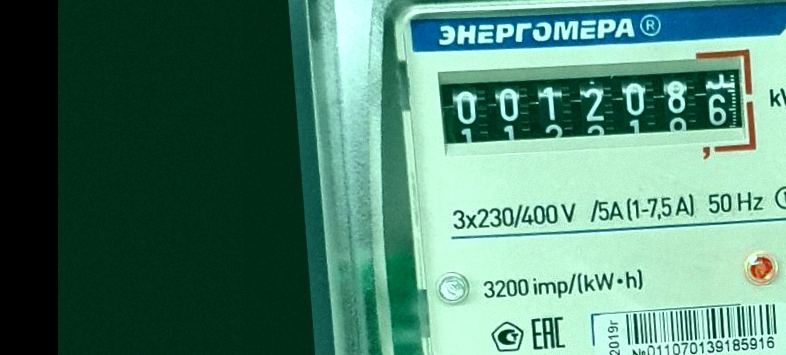0: (452, 85, 481, 126), (496, 84, 523, 122), (621, 78, 648, 116)
1: (538, 82, 562, 122)
2: (581, 83, 609, 123)
6: (704, 89, 730, 127)
8: (662, 76, 690, 115)
screen: (431, 39, 767, 178)
